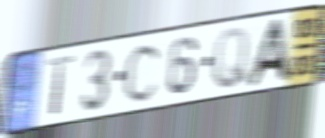3: (80, 46, 115, 114)
6: (167, 35, 198, 97)
A: (242, 16, 294, 90)
C: (122, 40, 164, 105)
Q: (211, 25, 251, 92)
T: (46, 53, 77, 119)
